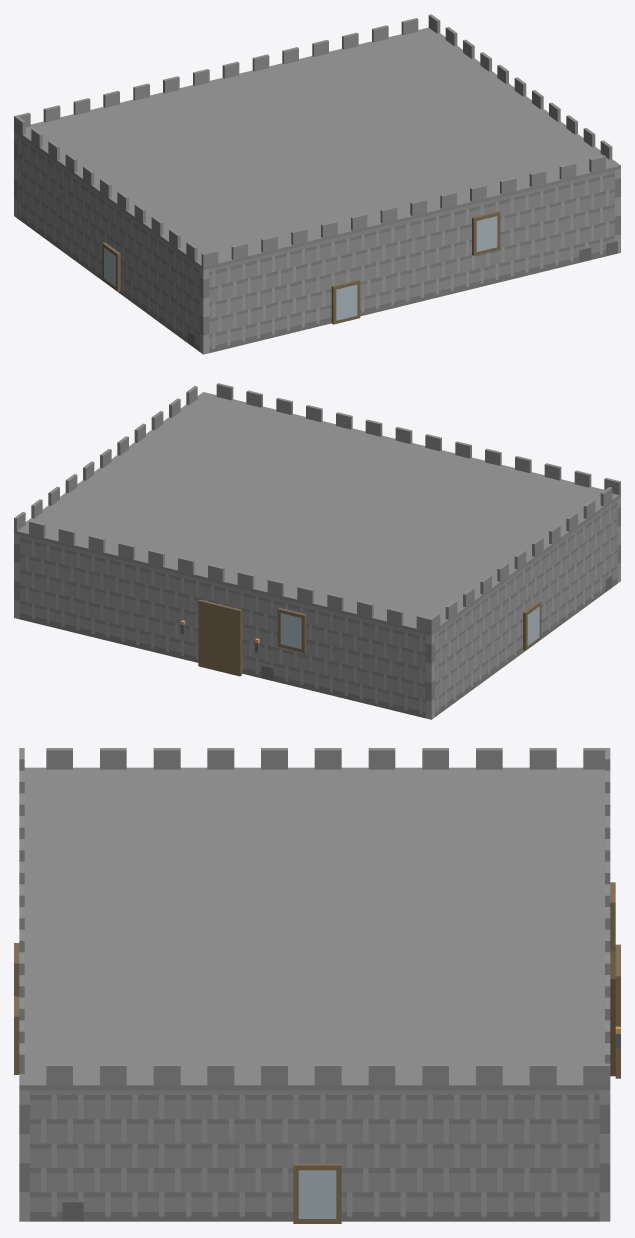
Rendered from arena_combate_01.glb.
3 renders of one model, top to bottom at view 1: azimuth 30°, elevation 25°; view 2: azimuth 150°, elevation 25°; view 3: azimuth 270°, elevation 25°, orthographic. The views are drawn at different scales.
Visible parts, largest first — view 1: arena_combate_01; view 2: arena_combate_01; view 3: arena_combate_01.
Part boxes in pixels (box(x1,y1,x2,y2)): arena_combate_01: box(14, 14, 620, 354); arena_combate_01: box(14, 383, 620, 719); arena_combate_01: box(14, 748, 620, 1223).
Bounding box in the file's own units: 14.2 × 3.2 × 11.3.
